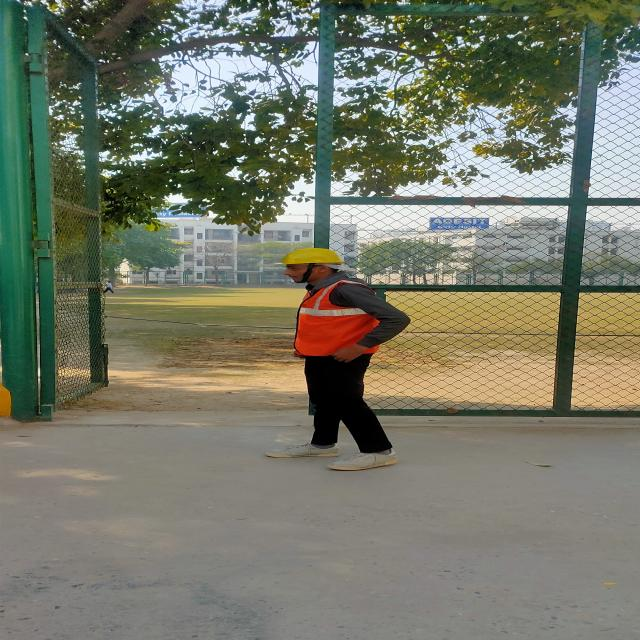safe: (286, 248, 410, 470)
